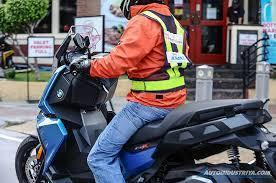Vest: (126, 13, 188, 97)
